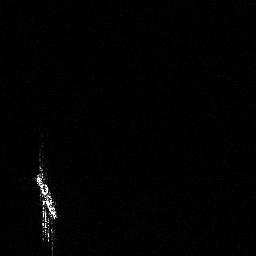ship: (31, 161, 62, 256)
